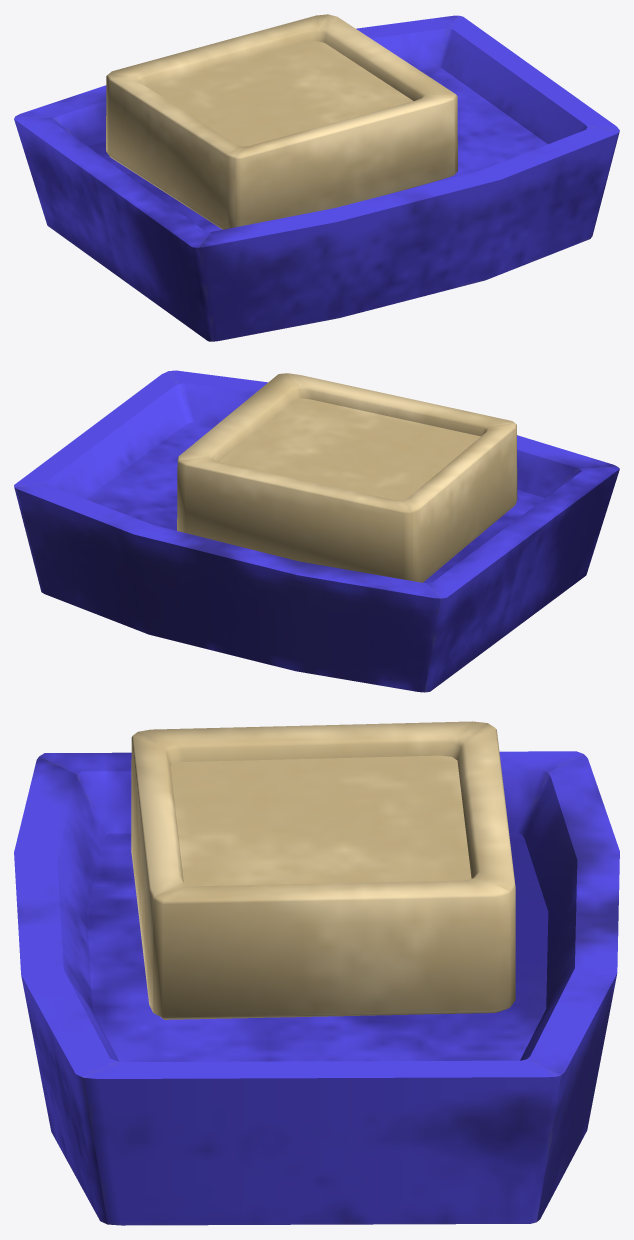
File: Prop_Soap.fbx
The picture shows the model from 3 angles, top to bottom: view 1: azimuth 30°, elevation 25°; view 2: azimuth 150°, elevation 25°; view 3: azimuth 270°, elevation 25°; orthographic projection. The views are drawn at different scales.
Visible parts, largest first — view 1: Prop_Soap; view 2: Prop_Soap; view 3: Prop_Soap.
Part boxes in pixels (<box>): Prop_Soap: <box>14,14,619,341</box>; Prop_Soap: <box>14,370,619,692</box>; Prop_Soap: <box>14,721,619,1225</box>.
Size of the model in its own units: 4.73 by 1.6 by 3.7.
